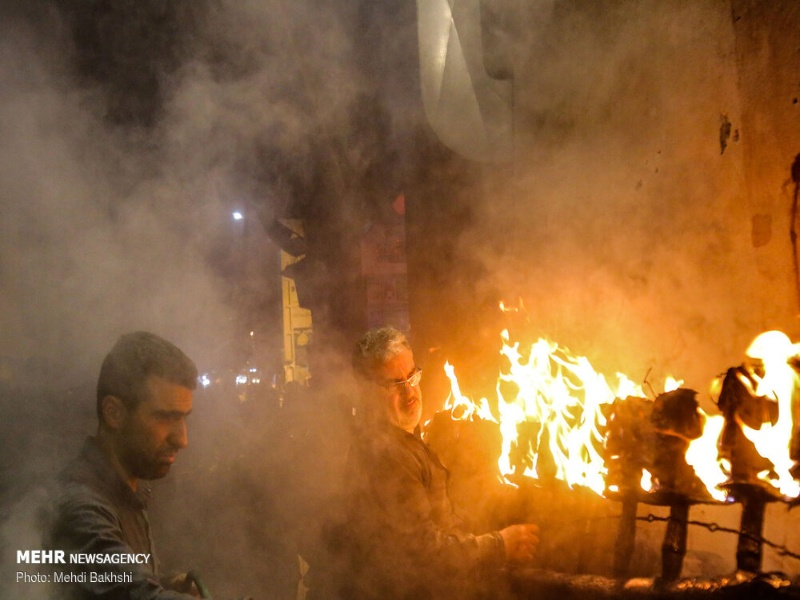smoke: (2, 5, 710, 264)
